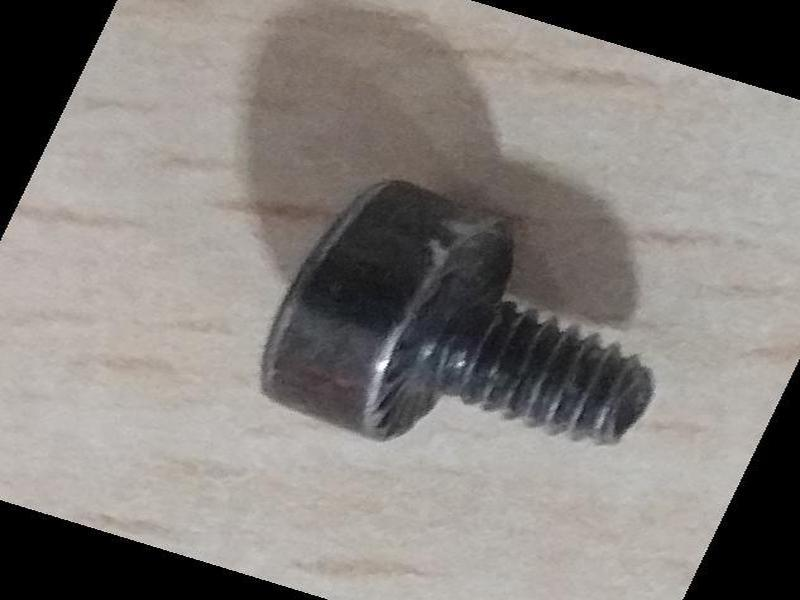verysmallscrew: (250, 163, 674, 509)
